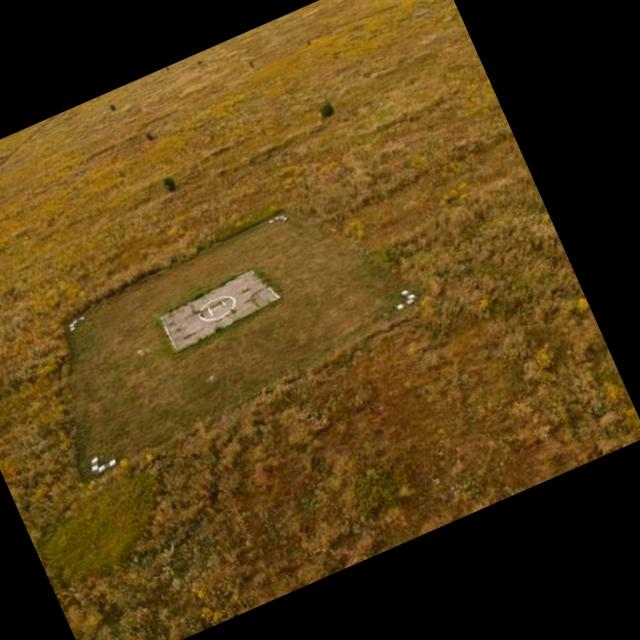helipad: (196, 293, 236, 321)
